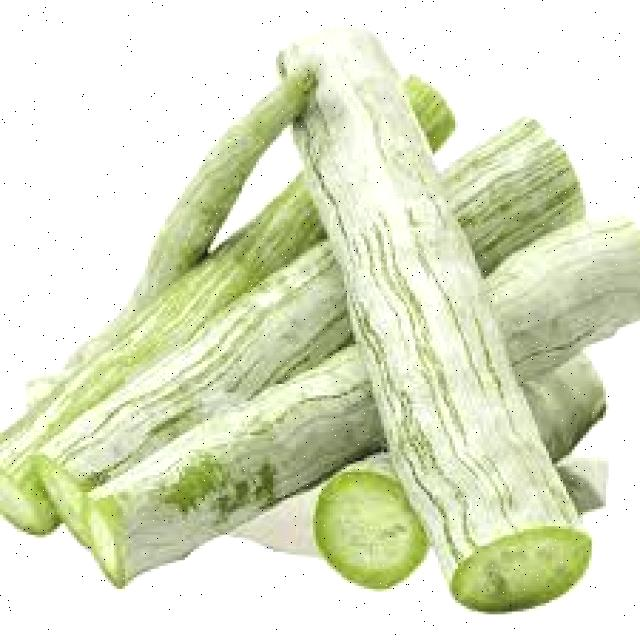Snake Gourd: (27, 17, 498, 469), (75, 226, 623, 614), (292, 50, 596, 612)
